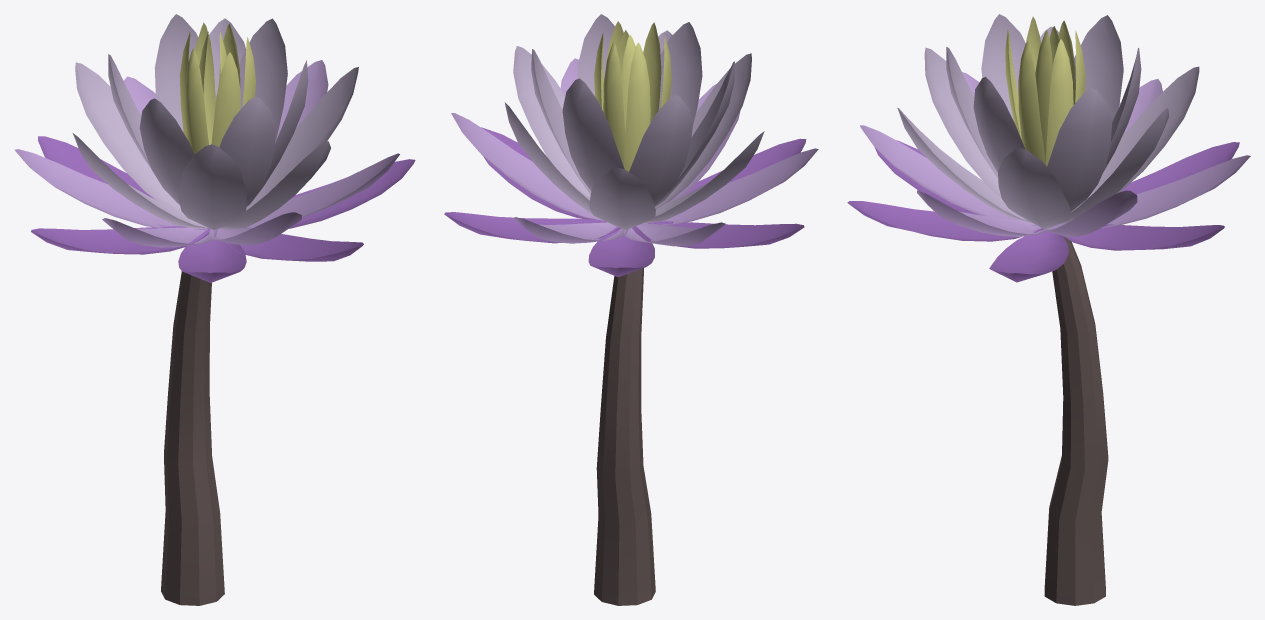
File: VioletFlower.fbx
3 views of the same model, side by side, from view 1: azimuth 30°, elevation 25°; view 2: azimuth 150°, elevation 25°; view 3: azimuth 270°, elevation 25° (orthographic). The views are drawn at different scales.
Visible parts, largest first — view 1: group3_pPlane26; view 2: group3_pPlane26; view 3: group3_pPlane26.
Boxes of the visible parts, bbox=[...] form: group3_pPlane26: bbox=[14, 14, 415, 605]; group3_pPlane26: bbox=[444, 14, 818, 605]; group3_pPlane26: bbox=[847, 14, 1250, 605].
Bounding box in the file's own units: 5.17 × 7.74 × 4.98.
